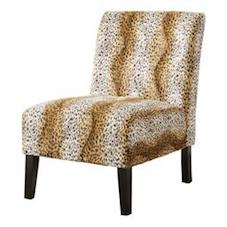chair: (2, 5, 214, 212)
